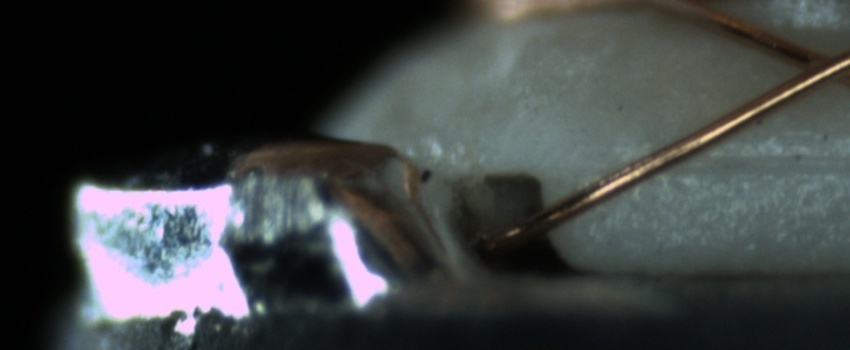CL: (777, 37, 849, 93)
DL: (614, 125, 843, 193)
